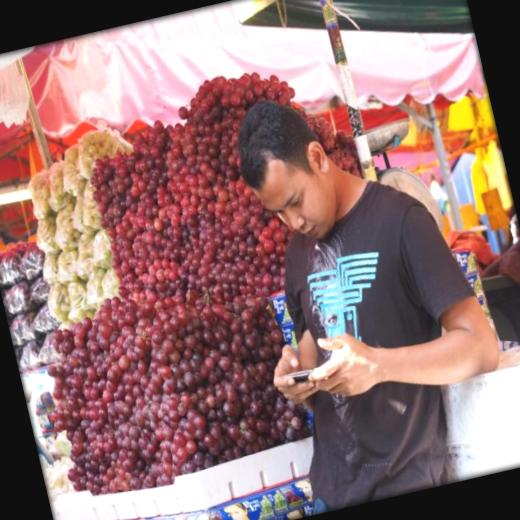Orange: (0, 47, 422, 509)
